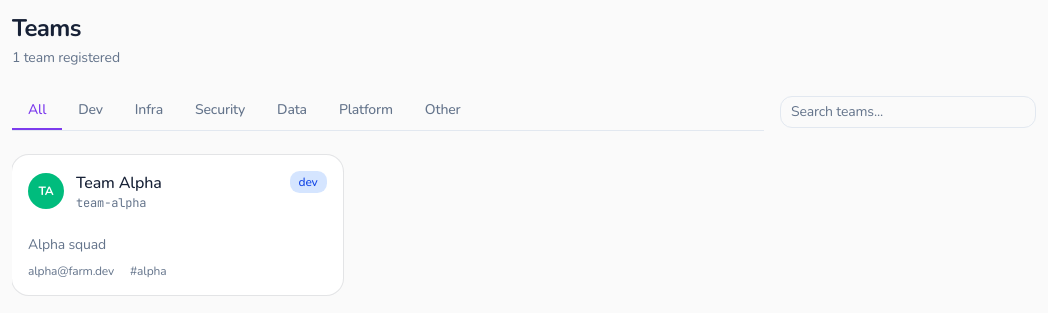
TeamsPage › should show filter empty state
Expected: the text "Team Alpha" is shown, [76,171,162,195]
Type "nonexistent" into the field with placeholder "Search teams...". click: (908, 112)
box: [780,96,1036,128]
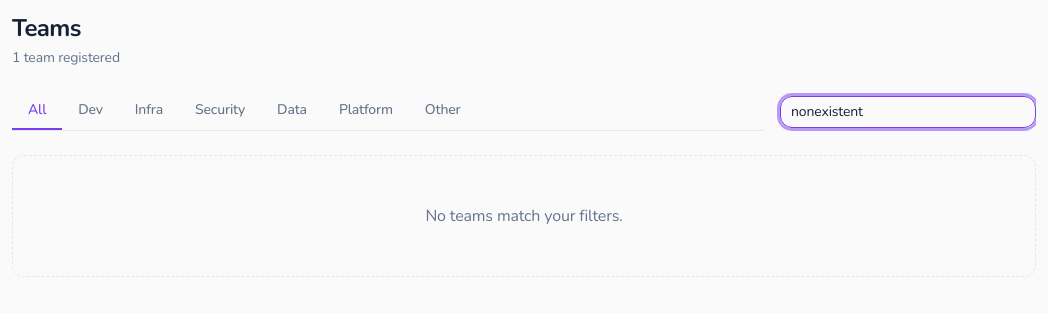
Now the text "No teams match your filters." is shown, box [12,155,1036,277]
